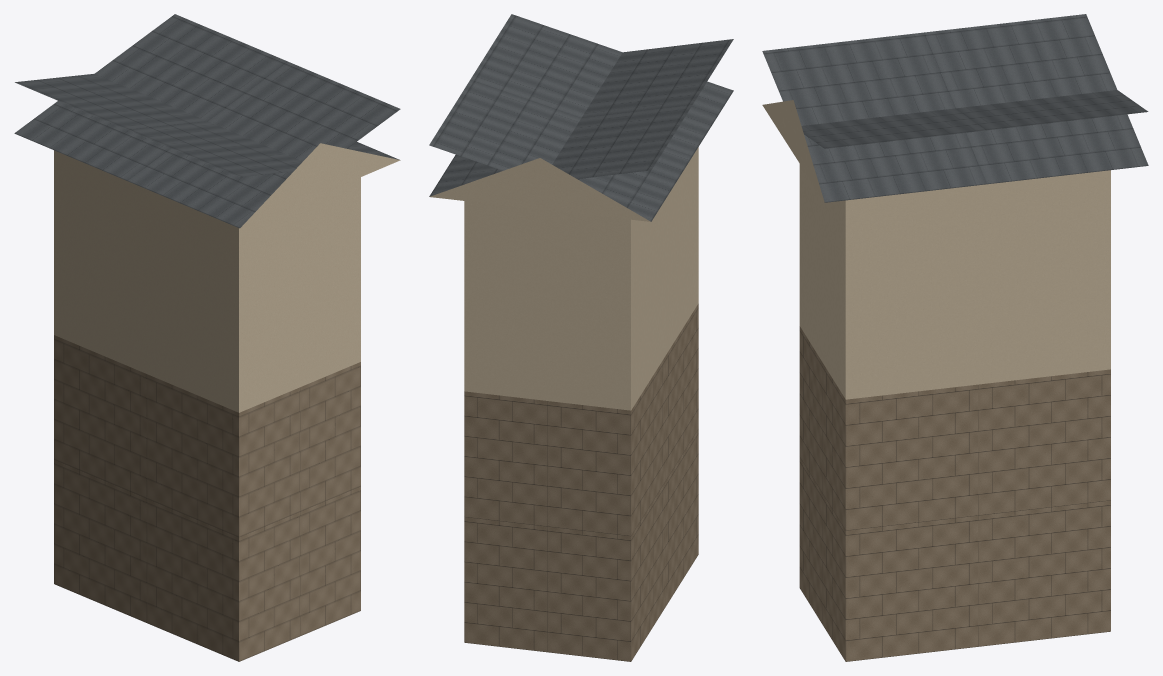
File: bld_c14_11_514.gltf
The picture shows the model from 3 angles, left to right: view 1: azimuth 30°, elevation 25°; view 2: azimuth 150°, elevation 25°; view 3: azimuth 270°, elevation 25°; orthographic projection. The views are drawn at different scales.
Parts seen in each view (by area): view 1: bld_c14_11_514; view 2: bld_c14_11_514; view 3: bld_c14_11_514.
Boxes of the visible parts, bbox=[...] form: bld_c14_11_514: bbox=[14, 14, 400, 661]; bld_c14_11_514: bbox=[429, 14, 733, 661]; bld_c14_11_514: bbox=[762, 14, 1148, 661].
Size of the model in its own units: 5.37 by 9.8 by 6.5.
4 materials, 4 textured.
